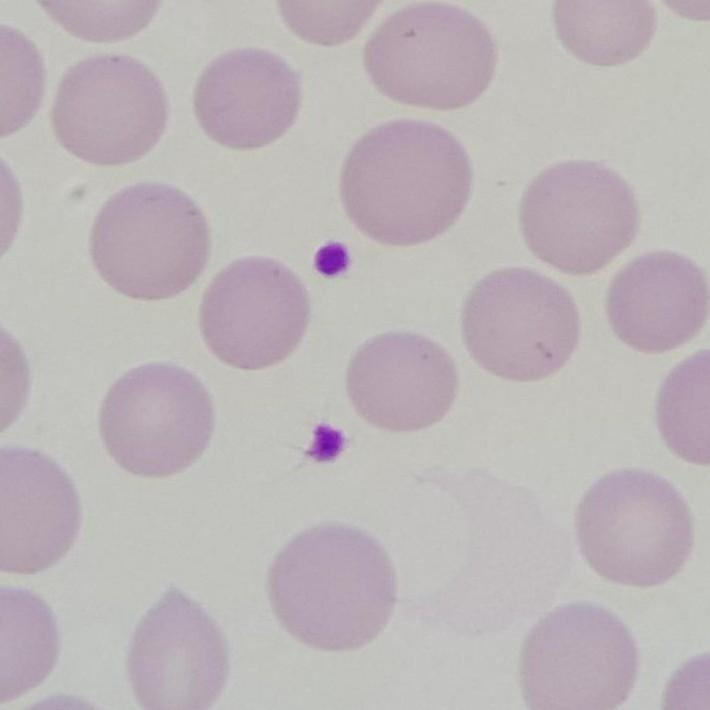Uninfected: (266, 522, 397, 653), (343, 118, 470, 248), (364, 0, 494, 112), (87, 179, 208, 299), (521, 159, 640, 276), (574, 469, 690, 587), (99, 362, 214, 480), (463, 270, 581, 383), (51, 50, 166, 163), (519, 603, 636, 710), (201, 256, 309, 370), (129, 587, 229, 710), (349, 329, 454, 432), (194, 48, 296, 151), (610, 248, 707, 355), (1, 438, 73, 579), (547, 0, 660, 67)
